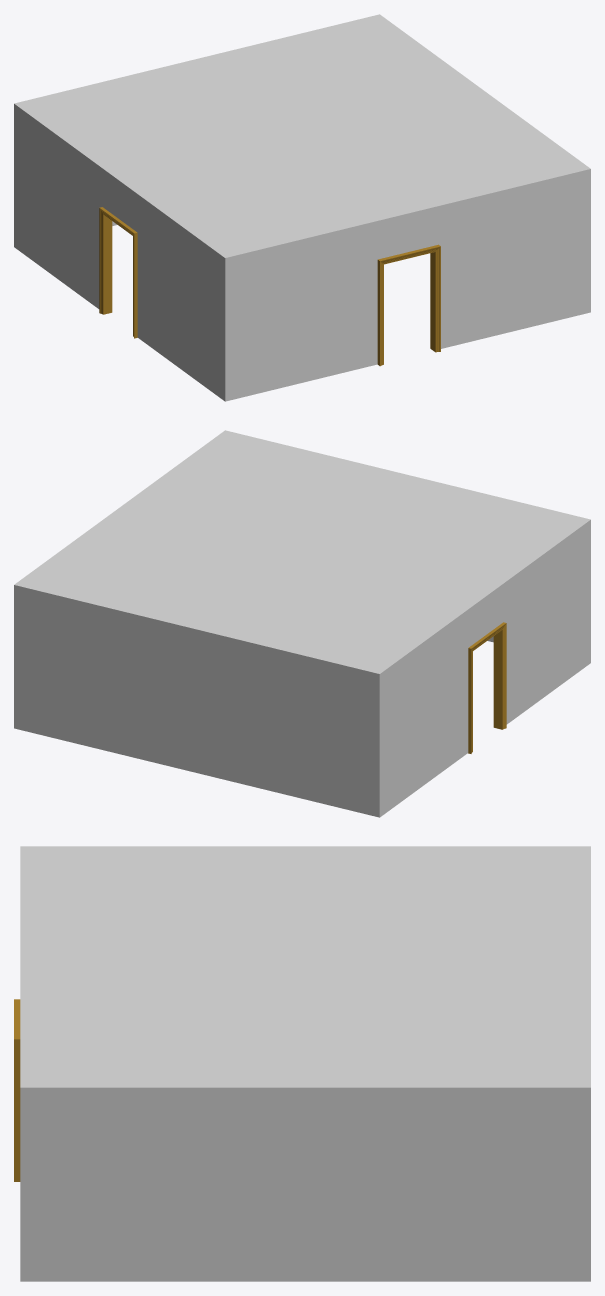
Rendered from South_West.fbx.
3 renders of one model, top to bottom at view 1: azimuth 30°, elevation 25°; view 2: azimuth 150°, elevation 25°; view 3: azimuth 270°, elevation 25°, orthographic. The views are drawn at different scales.
Visible parts, largest first — view 1: Room, Ceiling, Cube.010, Cube.002; view 2: Room, Ceiling, Cube.002; view 3: Ceiling, Room, Cube.010.
Part boxes in pixels (left/top/right/bottom): Room: left=14, top=14, right=590, bottom=401; Ceiling: left=15, top=14, right=589, bottom=257; Cube.010: left=377, top=244, right=440, bottom=366; Cube.002: left=99, top=207, right=137, bottom=338; Room: left=14, top=430, right=590, bottom=817; Ceiling: left=14, top=430, right=590, bottom=673; Cube.002: left=468, top=622, right=506, bottom=753; Ceiling: left=20, top=846, right=590, bottom=1087; Room: left=20, top=846, right=590, bottom=1281; Cube.010: left=14, top=999, right=20, bottom=1181.
Size of the model in its own units: 807 by 301 by 809.
